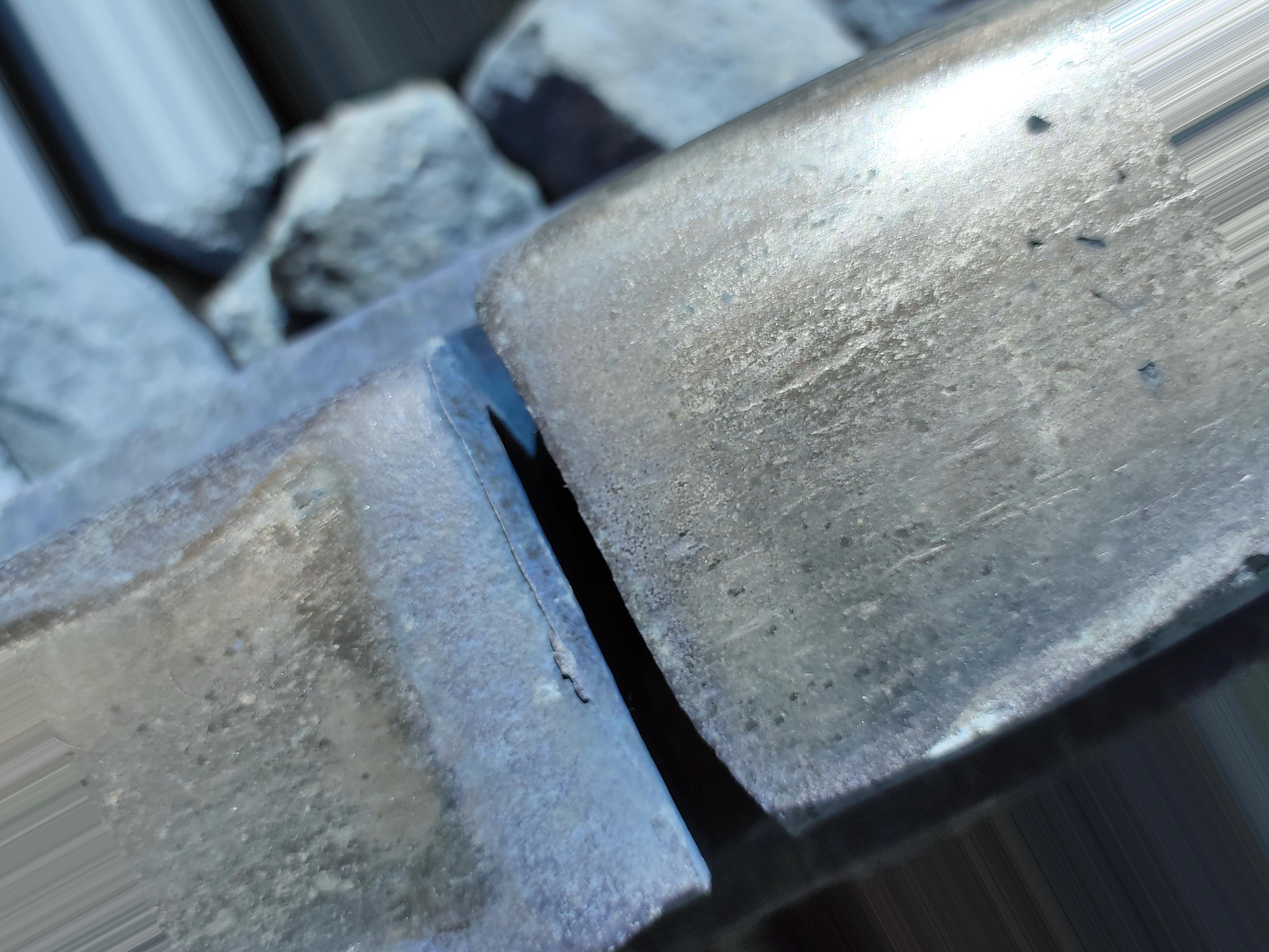tracks_fault: (292, 305, 709, 952)
